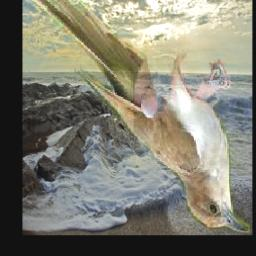Cuckoo: (22, 0, 250, 233)
